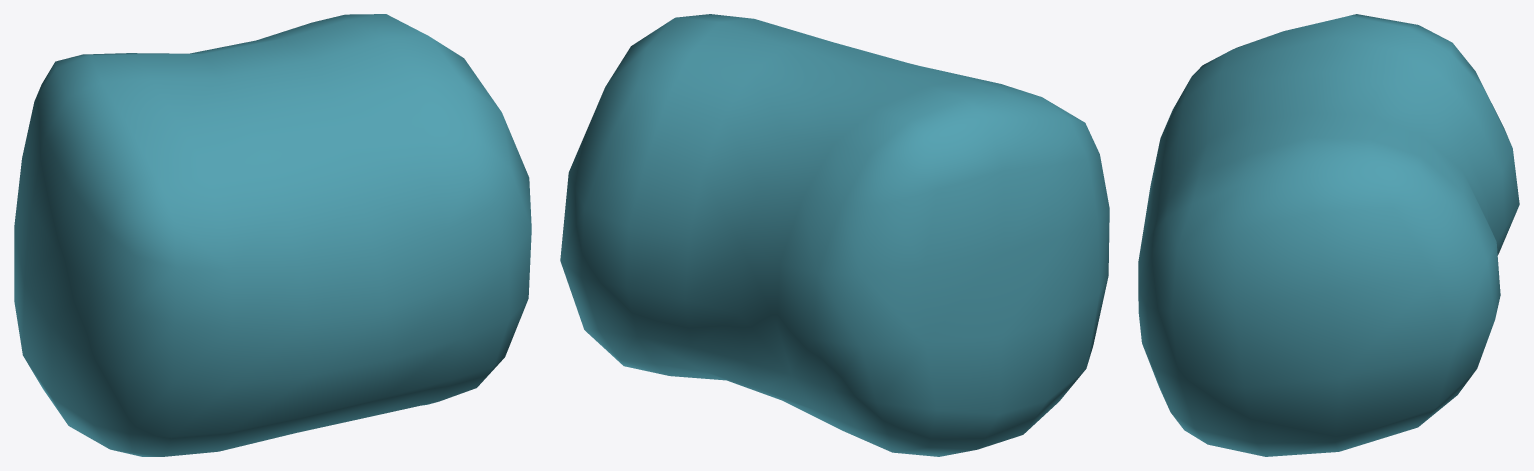
The model's file is VIS_Alpha_Surface_024.dae.
3 renders of one model, left to right at view 1: azimuth 30°, elevation 25°; view 2: azimuth 150°, elevation 25°; view 3: azimuth 270°, elevation 25°, orthographic. The views are drawn at different scales.
Visible parts, largest first — view 1: VIS_Alpha_Surface_024; view 2: VIS_Alpha_Surface_024; view 3: VIS_Alpha_Surface_024.
Part boxes in pixels (x1,y1,x2,y2): VIS_Alpha_Surface_024: (14,14,531,456); VIS_Alpha_Surface_024: (560,14,1109,456); VIS_Alpha_Surface_024: (1138,14,1519,456).
Bounding box in the file's own units: 2.84 × 2.31 × 2.1.
